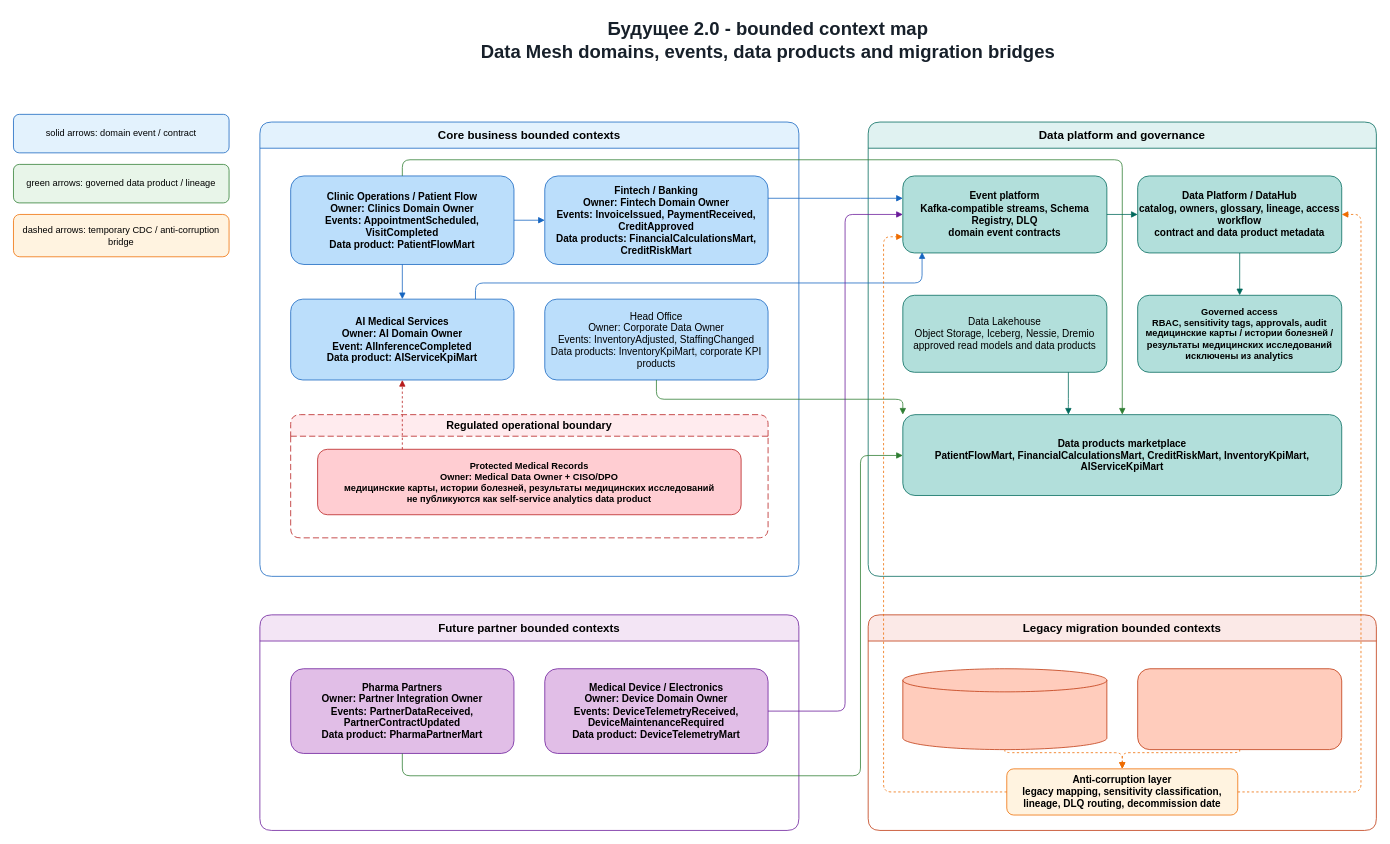
This 1390x844 diagram has some shape labels left out. Each missing label, with the centre of its shape:
Legacy Camel old ESB messages translated by anti-corruption layer: [1239,709]
Legacy DWH SQL Server 2008, historical logic, CDC source migration bridge only: [1004,709]
